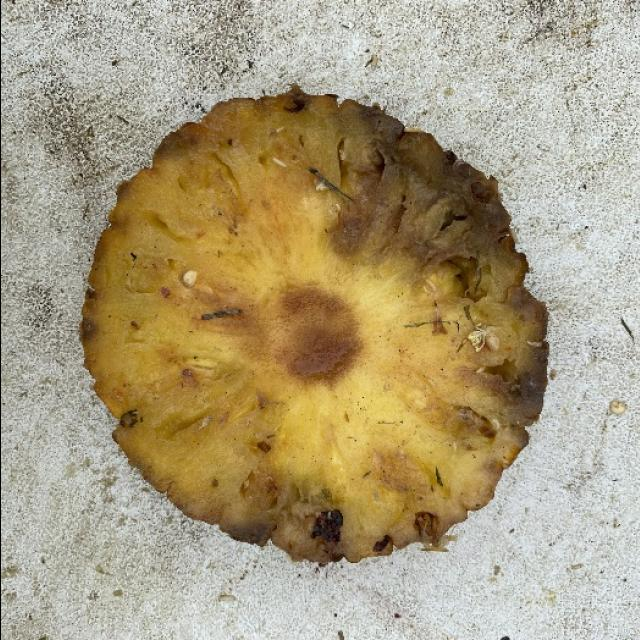organik: (80, 88, 538, 558)
